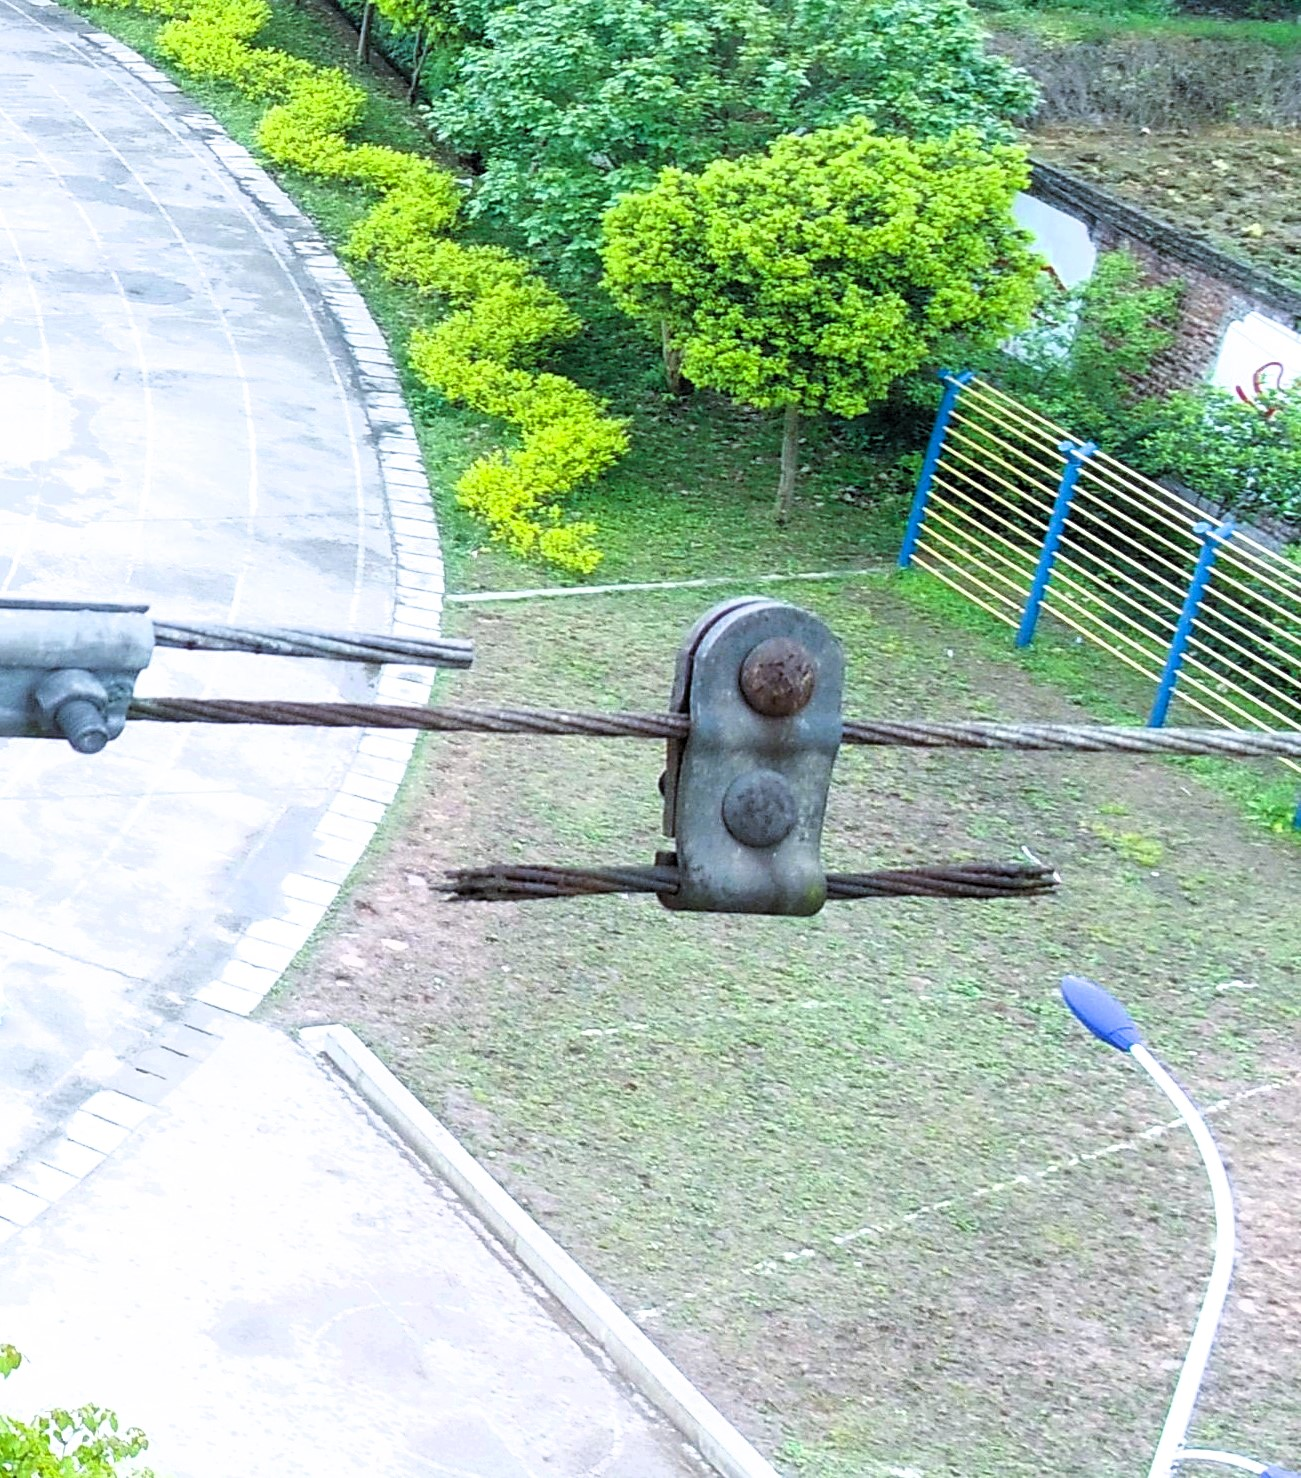Damage of shockproof hammer: (387, 566, 1111, 934)
